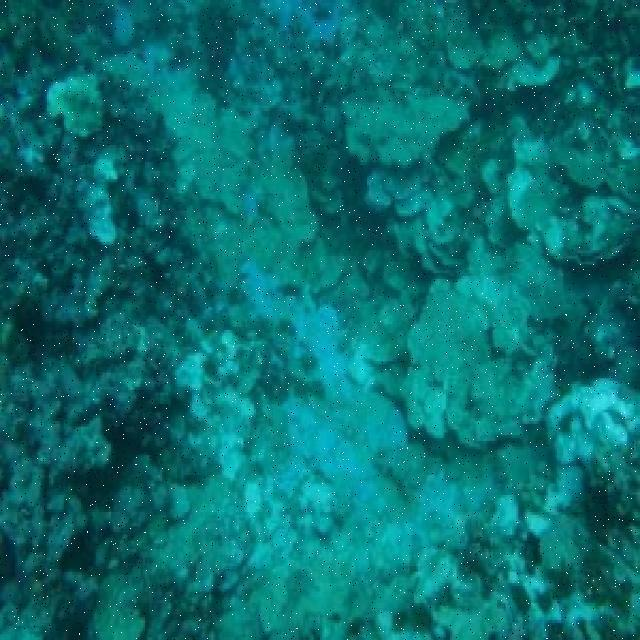Bleached: (234, 263, 391, 561), (175, 351, 259, 456), (398, 476, 478, 585), (564, 394, 640, 476), (45, 81, 110, 135), (512, 142, 550, 228), (267, 1, 348, 39), (539, 459, 594, 508), (90, 161, 126, 227)
Healthy: (2, 250, 158, 615), (510, 1, 640, 129)
